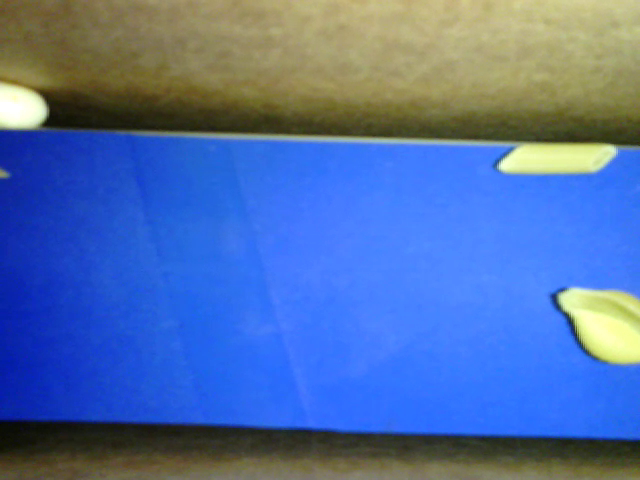penne: (496, 141, 619, 175)
shell: (555, 287, 639, 364)
